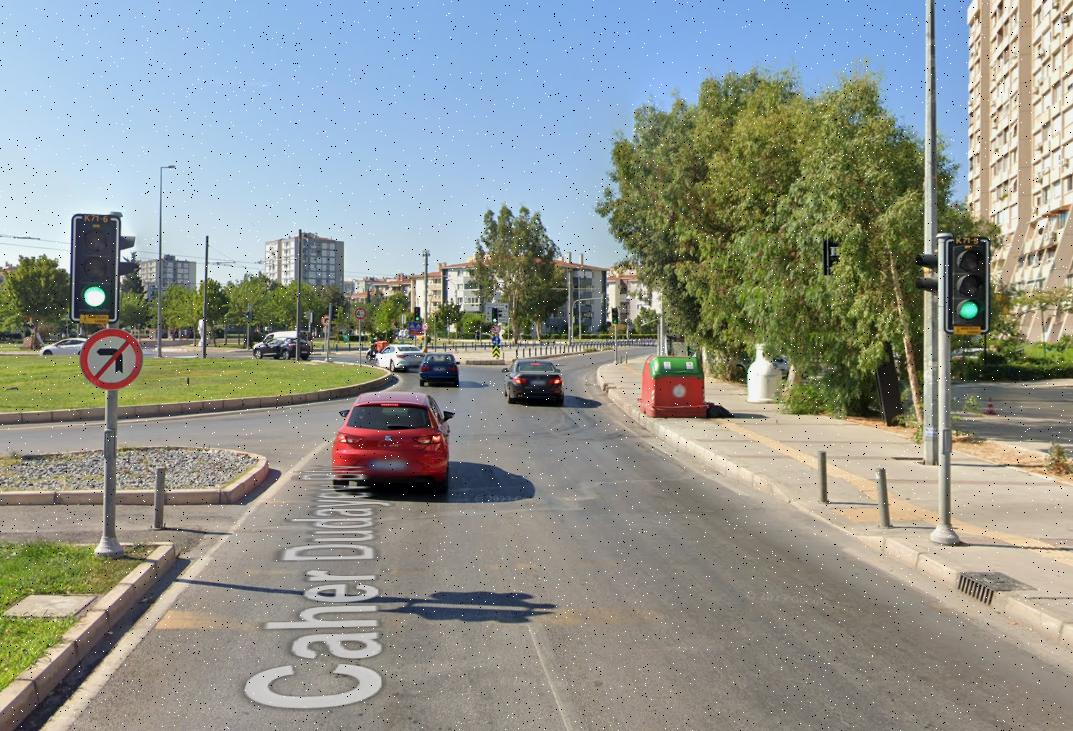greenlight: (948, 237, 988, 324), (81, 216, 116, 309)
leftturnsareforbidden: (84, 330, 140, 388)
